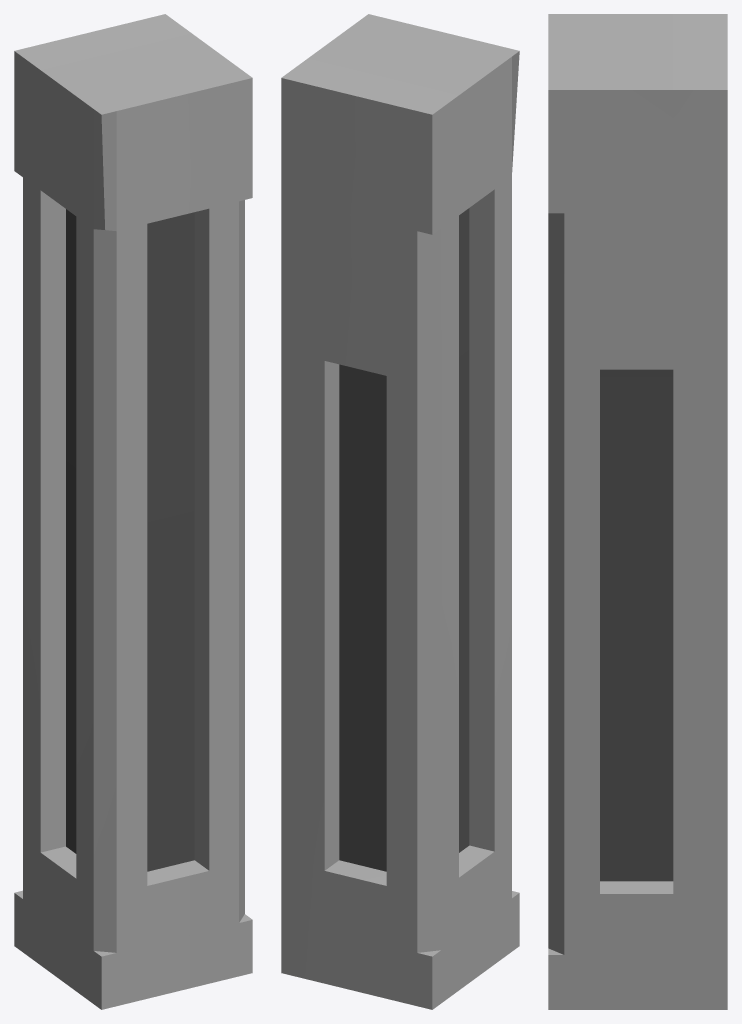
File: StationPillarCorner.fbx
The picture shows the model from 3 angles, left to right: view 1: azimuth 30°, elevation 25°; view 2: azimuth 150°, elevation 25°; view 3: azimuth 270°, elevation 25°; orthographic projection. The views are drawn at different scales.
Parts seen in each view (by area): view 1: Cube.012; view 2: Cube.012; view 3: Cube.012.
Boxes of the visible parts, <box> form: Cube.012: <box>14,14,252,1009</box>; Cube.012: <box>281,14,519,1009</box>; Cube.012: <box>548,14,727,1009</box>.
Size of the model in its own units: 60 by 339 by 60.
